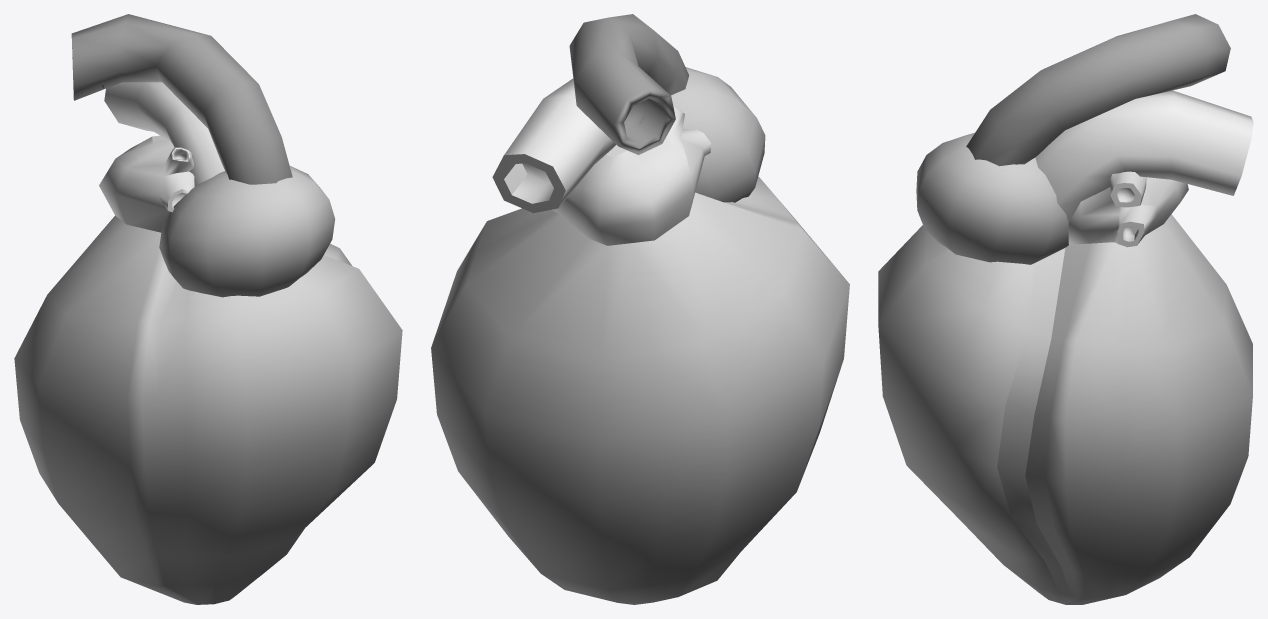
The model's file is Heart.fbx.
3 renders of one model, left to right at view 1: azimuth 30°, elevation 25°; view 2: azimuth 150°, elevation 25°; view 3: azimuth 270°, elevation 25°, orthographic. The views are drawn at different scales.
Parts seen in each view (by area): view 1: Heart, pCylinder2, pSphere1; view 2: Heart, pCylinder2, pSphere1; view 3: Heart, pCylinder2, pSphere1.
Boxes of the visible parts, x1=… form: Heart: x1=14, y1=82, x2=402, y2=604; pCylinder2: x1=71, y1=14, x2=292, y2=184; pSphere1: x1=159, y1=166, x2=335, y2=297; Heart: x1=431, y1=78, x2=849, y2=604; pCylinder2: x1=569, y1=14, x2=688, y2=154; pSphere1: x1=671, y1=67, x2=765, y2=202; Heart: x1=878, y1=90, x2=1253, y2=604; pCylinder2: x1=966, y1=14, x2=1230, y2=166; pSphere1: x1=916, y1=133, x2=1068, y2=264.
Bounding box in the file's own units: 2.42 × 3.72 × 2.25.
